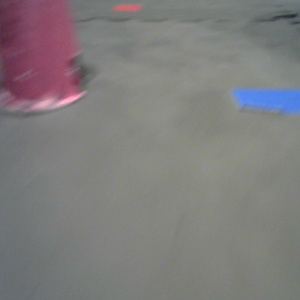middle: (1, 1, 88, 113)
